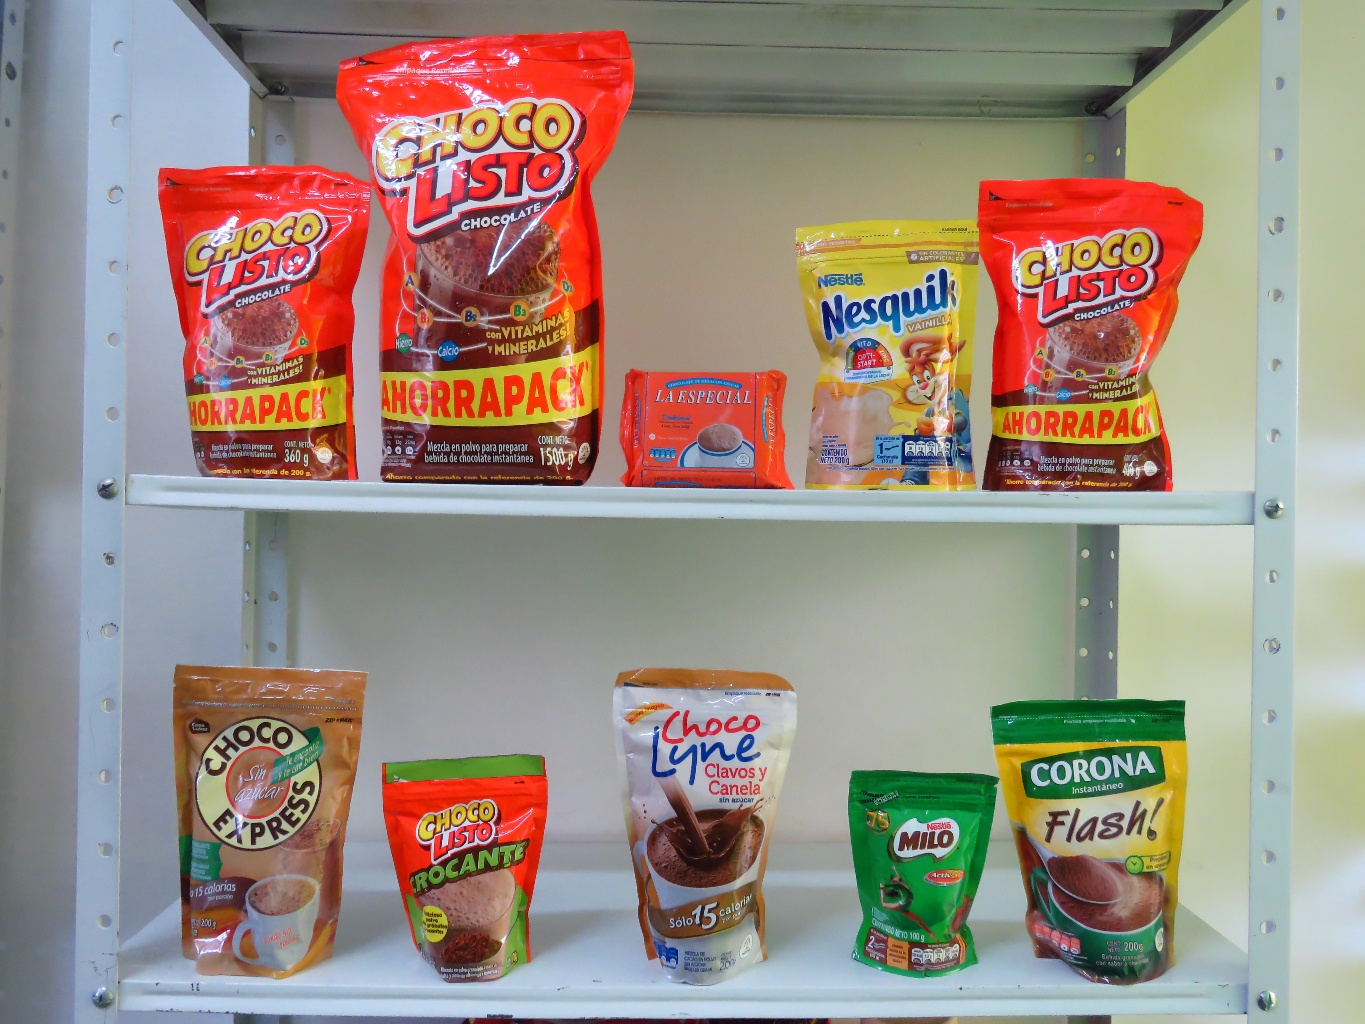COL0170102DYP10000: (365, 730, 572, 1000)
COL0170103DYP1,500: (328, 11, 659, 486)
COL0170103DYP36000: (137, 148, 387, 488)
COL0170103DYP40000: (953, 144, 1240, 502)
COL0170203DYP10000: (812, 740, 1006, 990)
COL0170306DYP20000: (762, 198, 1008, 502)
